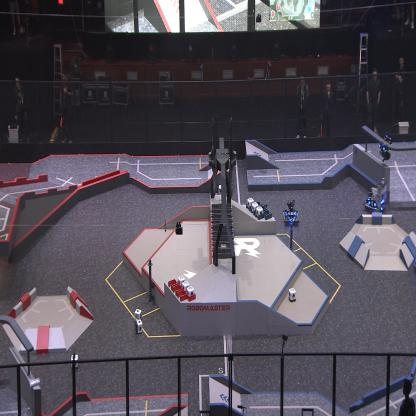car: (363, 177, 388, 213), (282, 198, 299, 226)
